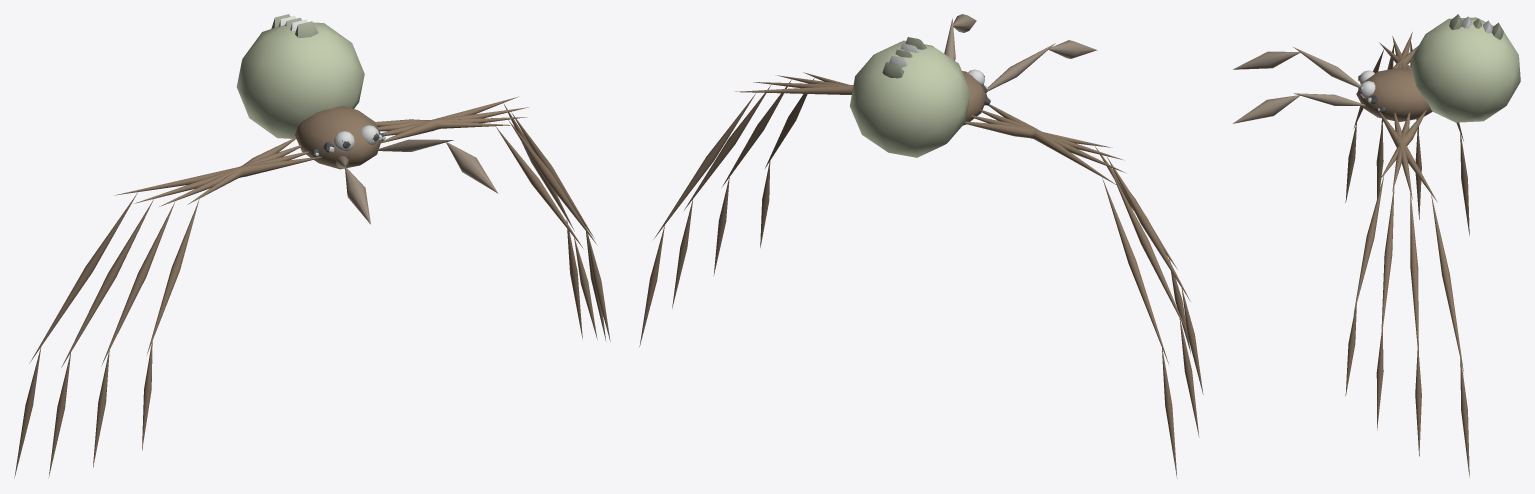
File: argiope-catenulata.glb
3 views of the same model, side by side, from view 1: azimuth 30°, elevation 25°; view 2: azimuth 150°, elevation 25°; view 3: azimuth 270°, elevation 25° (orthographic). The views are drawn at different scales.
Parts seen in each view (by area): view 1: abdomen, cephalothorax, leg0-r0, leg1-r0, leg2-r0, leg3-r0, leg2-l0, leg3-l0, leg0-l0, leg1-l0, palp-l1, palp-r1; view 2: abdomen, leg0-r0, leg0-l0, leg1-r0, leg2-r0, leg1-l0, leg3-r0, leg2-l0, leg3-l0, cephalothorax, palp-r0; view 3: abdomen, cephalothorax, leg0-l0, leg1-l0, leg2-l0, leg3-l0, palp-l1, palp-r1, leg3-r0, leg0-r0, leg2-r0, palp-r0 (+2 smaller).
Part boxes in pixels (x1,y1,x2,y2): abdomen: [236, 14, 364, 139]; cephalothorax: [295, 106, 381, 169]; leg0-r0: [14, 156, 322, 478]; leg1-r0: [48, 151, 308, 477]; leg2-r0: [93, 145, 301, 467]; leg3-r0: [142, 137, 296, 450]; leg2-l0: [377, 117, 610, 341]; leg3-l0: [375, 119, 597, 339]; leg0-l0: [381, 96, 582, 340]; leg1-l0: [382, 107, 605, 340]; palp-l1: [446, 142, 498, 193]; palp-r1: [345, 167, 370, 224]; abdomen: [850, 37, 970, 157]; leg0-r0: [988, 104, 1177, 478]; leg0-l0: [639, 85, 853, 346]; leg1-r0: [980, 109, 1199, 437]; leg2-r0: [971, 115, 1203, 394]; leg1-l0: [672, 82, 853, 308]; leg3-r0: [965, 121, 1190, 353]; leg2-l0: [713, 75, 852, 275]; leg3-l0: [760, 72, 849, 247]; cephalothorax: [962, 71, 987, 125]; palp-r0: [987, 43, 1055, 91]; abdomen: [1411, 14, 1520, 122]; cephalothorax: [1356, 67, 1432, 122]; leg0-l0: [1378, 111, 1469, 477]; leg1-l0: [1394, 113, 1421, 456]; leg2-l0: [1376, 112, 1410, 430]; leg3-l0: [1345, 110, 1426, 396]; palp-l1: [1232, 95, 1299, 123]; palp-r1: [1233, 51, 1300, 69]; leg3-r0: [1345, 42, 1411, 202]; leg0-r0: [1392, 45, 1469, 235]; leg2-r0: [1376, 36, 1406, 198]; palp-r0: [1293, 47, 1360, 87].
Size of the model in its own units: 1.39 by 0.9134 by 0.6986.
